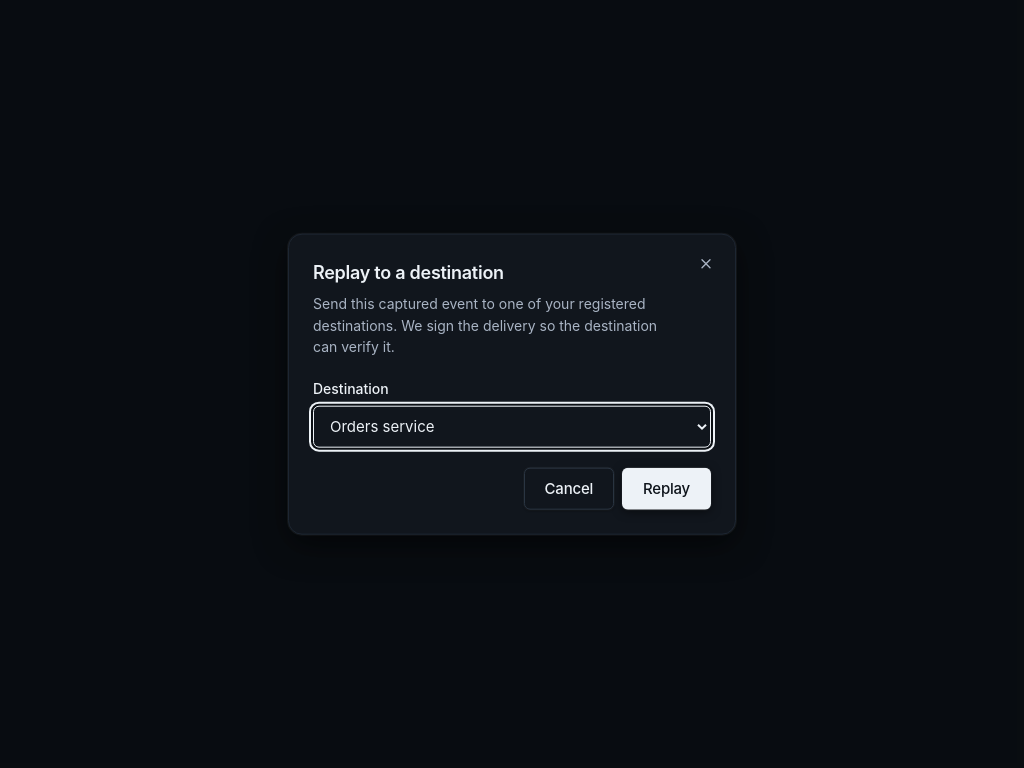
Test: ReplayDialog › renders a BLOCKED result honestly — the blocked label, no misleading success claim
Click the button "Replay": click(666, 488) x1=622 y1=467 x2=711 y2=509
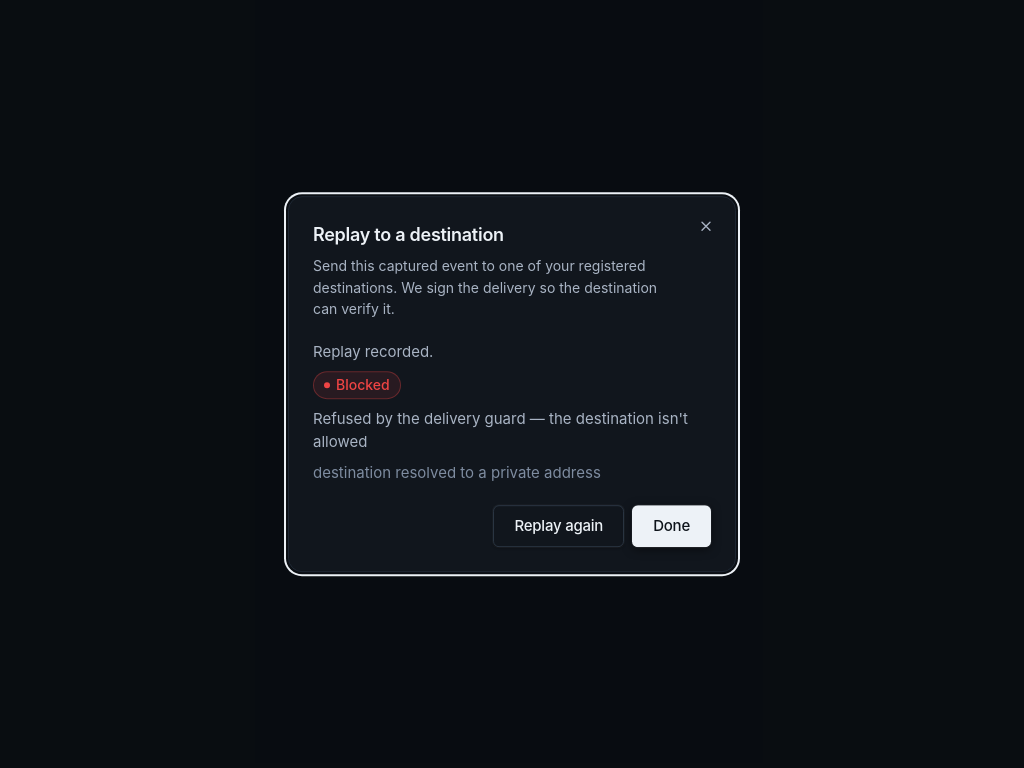
Now the text "Blocked" is shown, box x1=313 y1=371 x2=401 y2=399
Now the text "Refused by the delivery guard" is shown, box x1=313 y1=409 x2=688 y2=451
Now the text "destination resolved to a private address" is shown, box x1=313 y1=464 x2=601 y2=483
